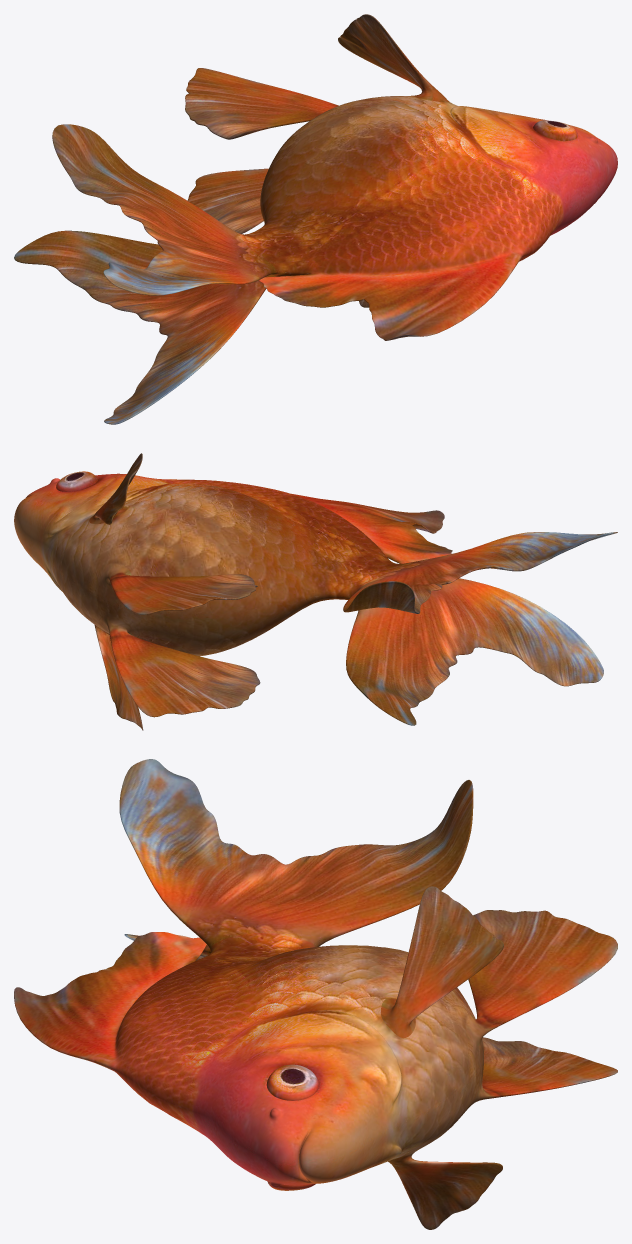
The model's file is goldfish.glb.
3 views of the same model, one above another, from view 1: azimuth 30°, elevation 25°; view 2: azimuth 150°, elevation 25°; view 3: azimuth 270°, elevation 25° (orthographic). The views are drawn at different scales.
Visible parts, largest first — view 1: goldfish; view 2: goldfish; view 3: goldfish.
Boxes of the visible parts, x1,y1,x2,y2 form: goldfish: (14, 14, 617, 424); goldfish: (14, 453, 617, 730); goldfish: (14, 759, 617, 1229).
Bounding box in the file's own units: 13.13 × 6.45 × 10.27.
1 material, 1 textured.
